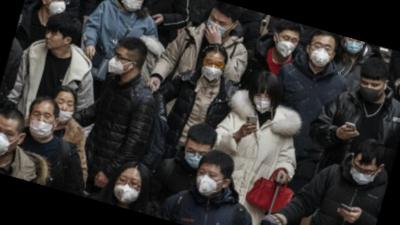mask_weared_incorrect: (48, 92, 78, 127)
with_mask: (23, 106, 59, 144), (191, 166, 227, 202), (303, 37, 338, 72), (111, 171, 145, 207), (344, 159, 380, 191), (197, 54, 228, 85), (355, 76, 387, 106), (203, 12, 236, 41), (106, 48, 135, 79), (248, 87, 276, 117), (272, 31, 301, 59), (181, 144, 209, 171), (342, 38, 366, 57)
without_mask: (42, 26, 68, 52)
